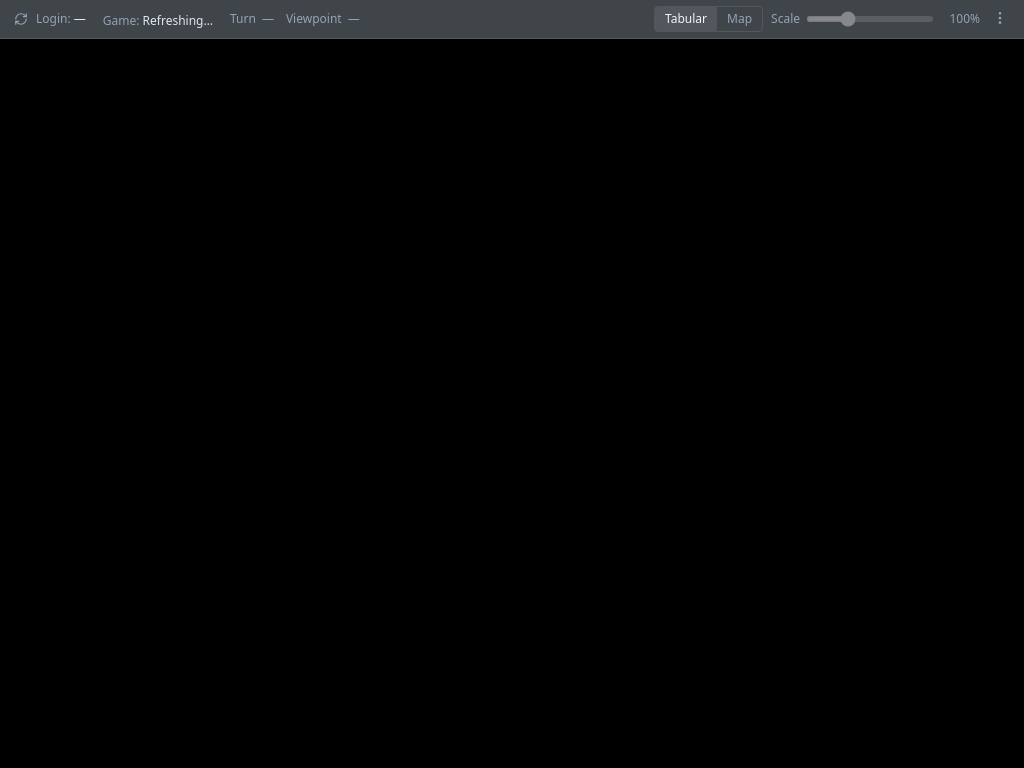
it: Header › keeps load-all label during game refresh when load-all is not pending
The image size is (1024, 768).
What coordinates should you click on to do the following:
click the button named "open menu"
I would click on:
 (1000, 18)
Its box is [988, 6, 1012, 30].
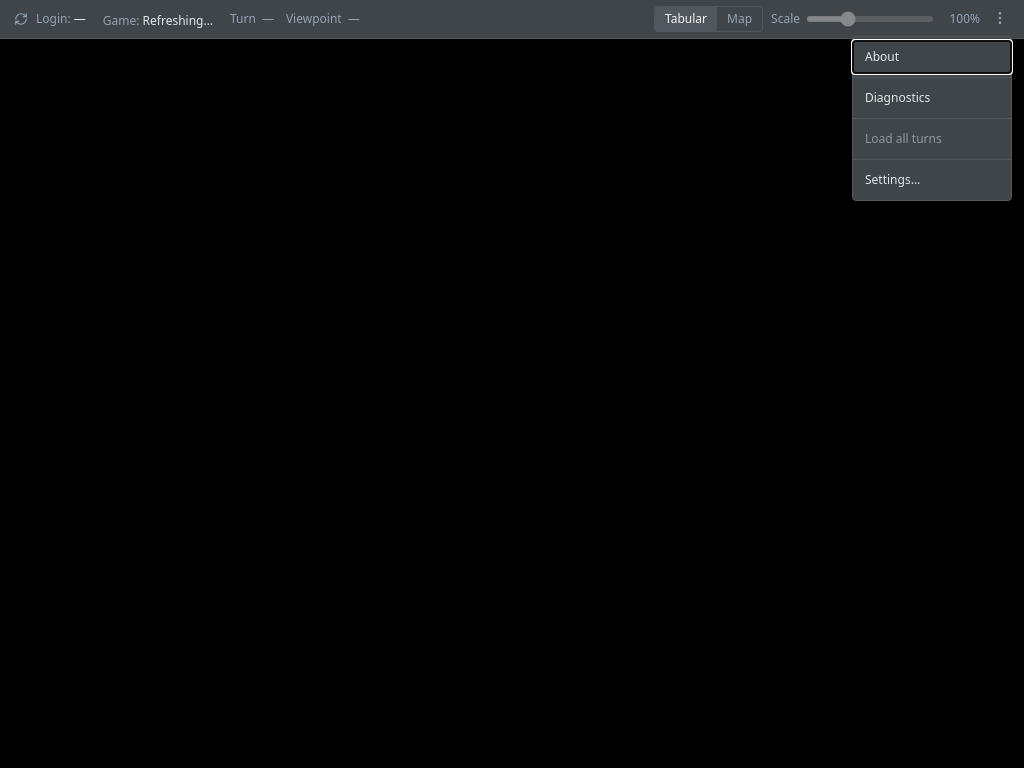
Expected: the dialog named "header menu" is shown, [852, 36, 1012, 201]
Expected: the button "Load all turns" is shown, [853, 123, 1011, 155]
